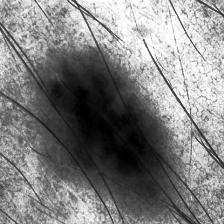Benign Marking or Mole: (37, 55, 162, 194)
